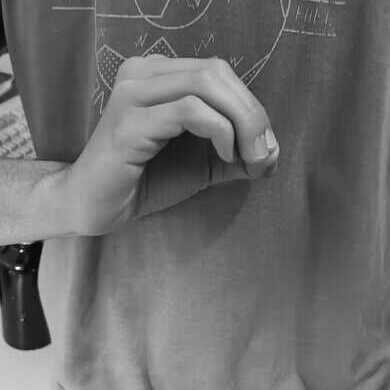O: (73, 54, 281, 239)
